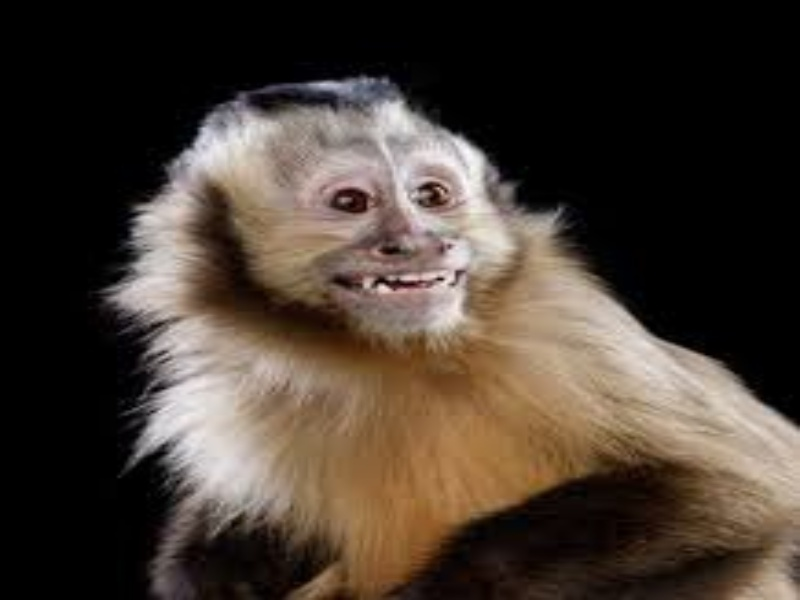monkey: (115, 76, 771, 578)
